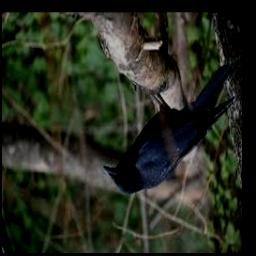Crow: (103, 61, 238, 195)
